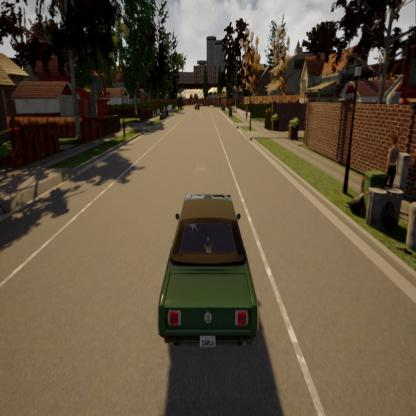Cars: (152, 186, 265, 365), (192, 100, 201, 112)
Pedestrian: (374, 133, 403, 189), (244, 103, 250, 123)
